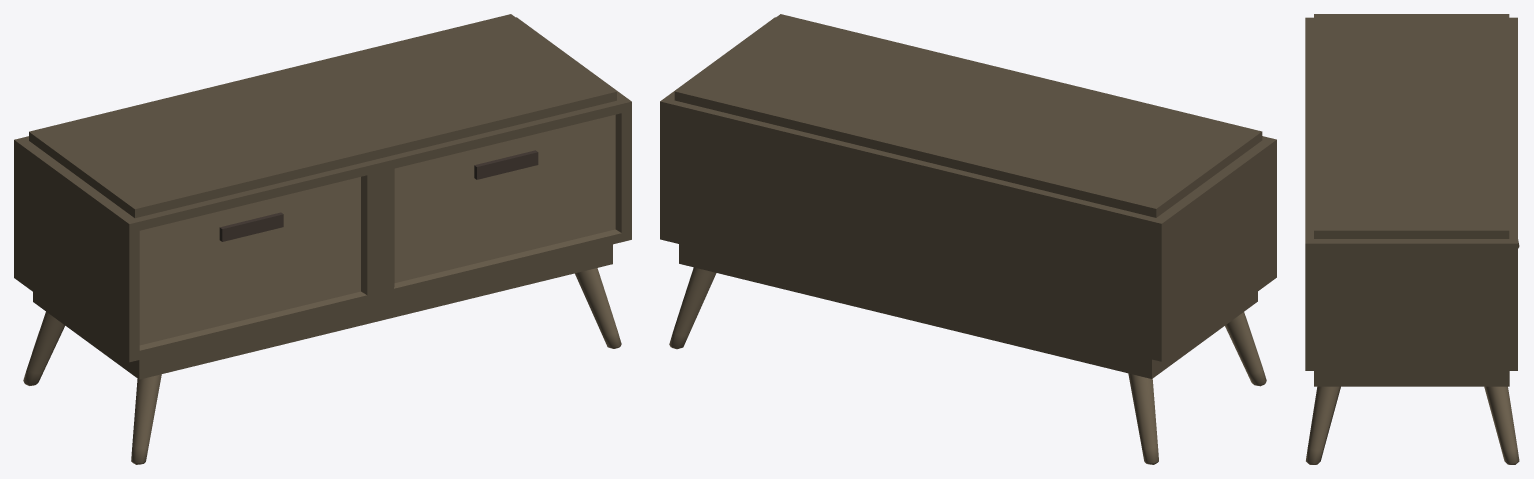
The model's file is Drawer_1.glb.
3 views of the same model, side by side, from view 1: azimuth 30°, elevation 25°; view 2: azimuth 150°, elevation 25°; view 3: azimuth 270°, elevation 25° (orthographic). The views are drawn at different scales.
Parts seen in each view (by area): view 1: Drawer_1; view 2: Drawer_1; view 3: Drawer_1.
Part boxes in pixels (box(x1,y1,x2,y2)): Drawer_1: box(14, 14, 631, 464); Drawer_1: box(660, 14, 1276, 464); Drawer_1: box(1305, 14, 1519, 464).
Bounding box in the file's own units: 2.79 × 1.35 × 1.12.
